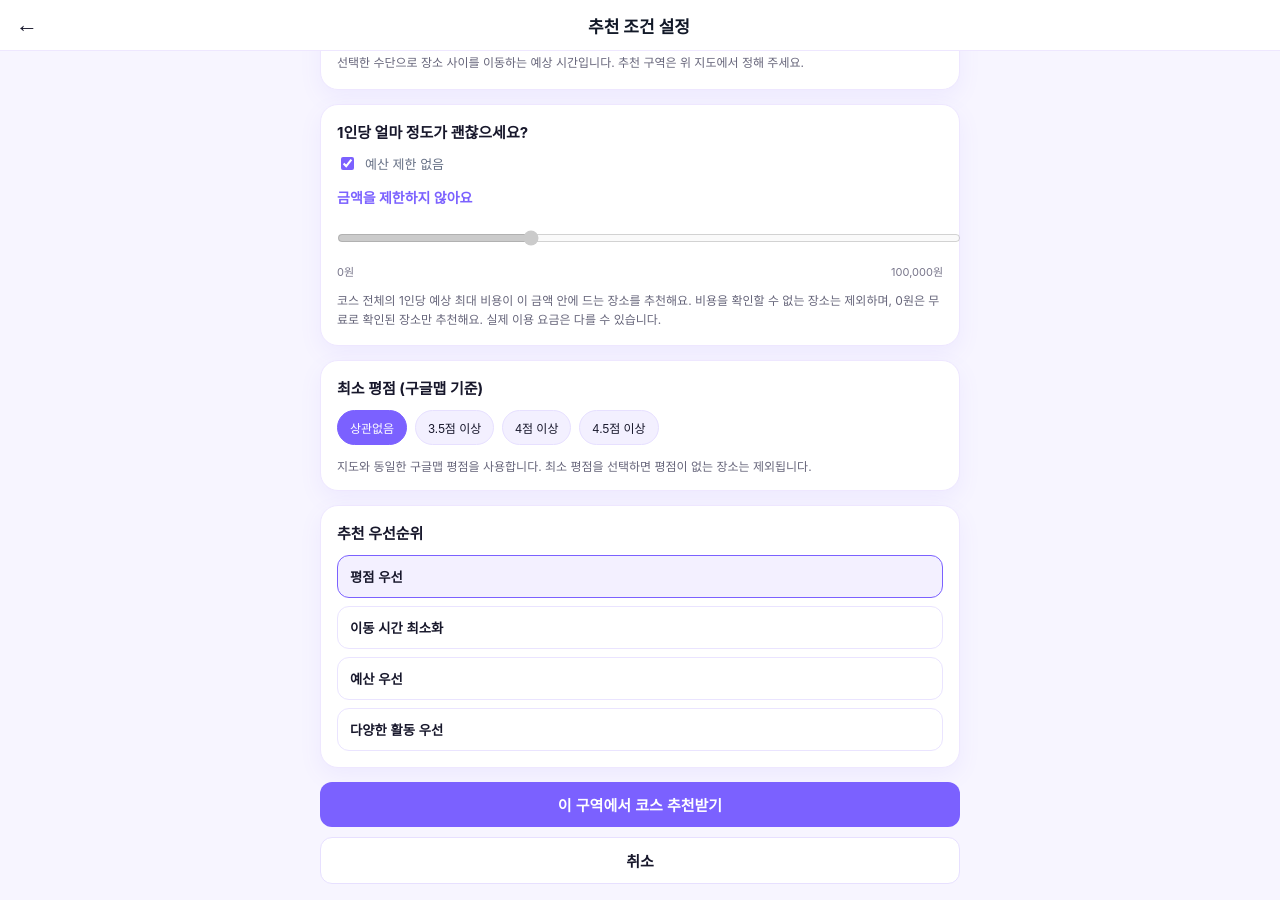
Test: 추천 실패 시 로딩을 종료하고 오류와 재시도 버튼을 표시
Later steps or results of the test are not shown.
(page scrolled)
Click the button "이 구역에서 코스 추천받기" at (640, 804), box [320,782,960,827]
(page scrolled)
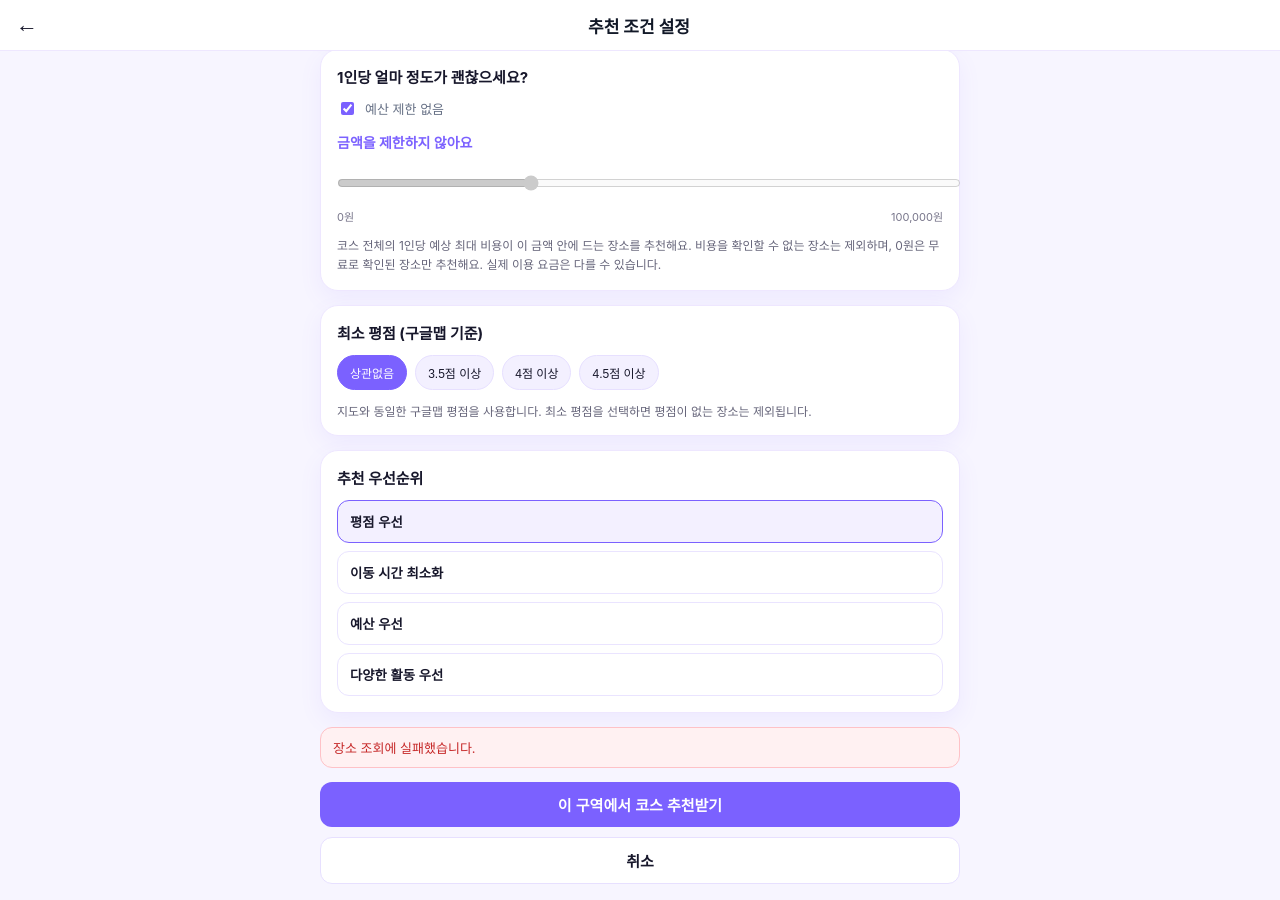
Check: the text "장소 조회에 실패했습니다." is shown, box [320,727,960,768]
